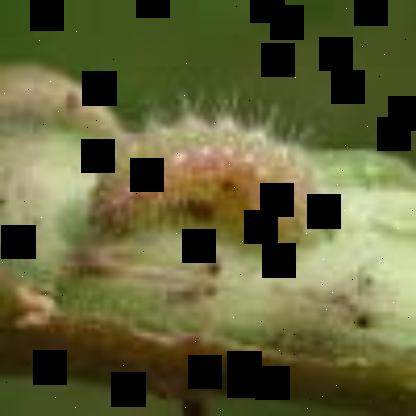oruga: (73, 100, 343, 262)
